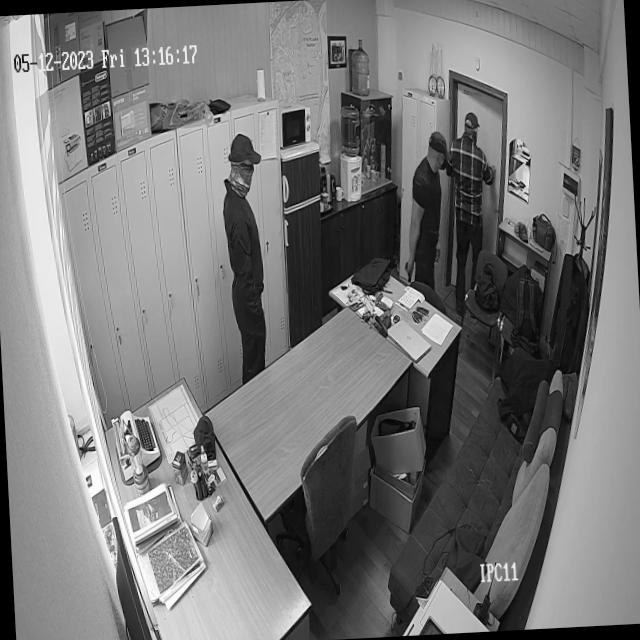gun: (404, 260, 414, 290)
person: (218, 138, 268, 376), (448, 112, 502, 304)
person with a gun: (398, 135, 454, 303)
